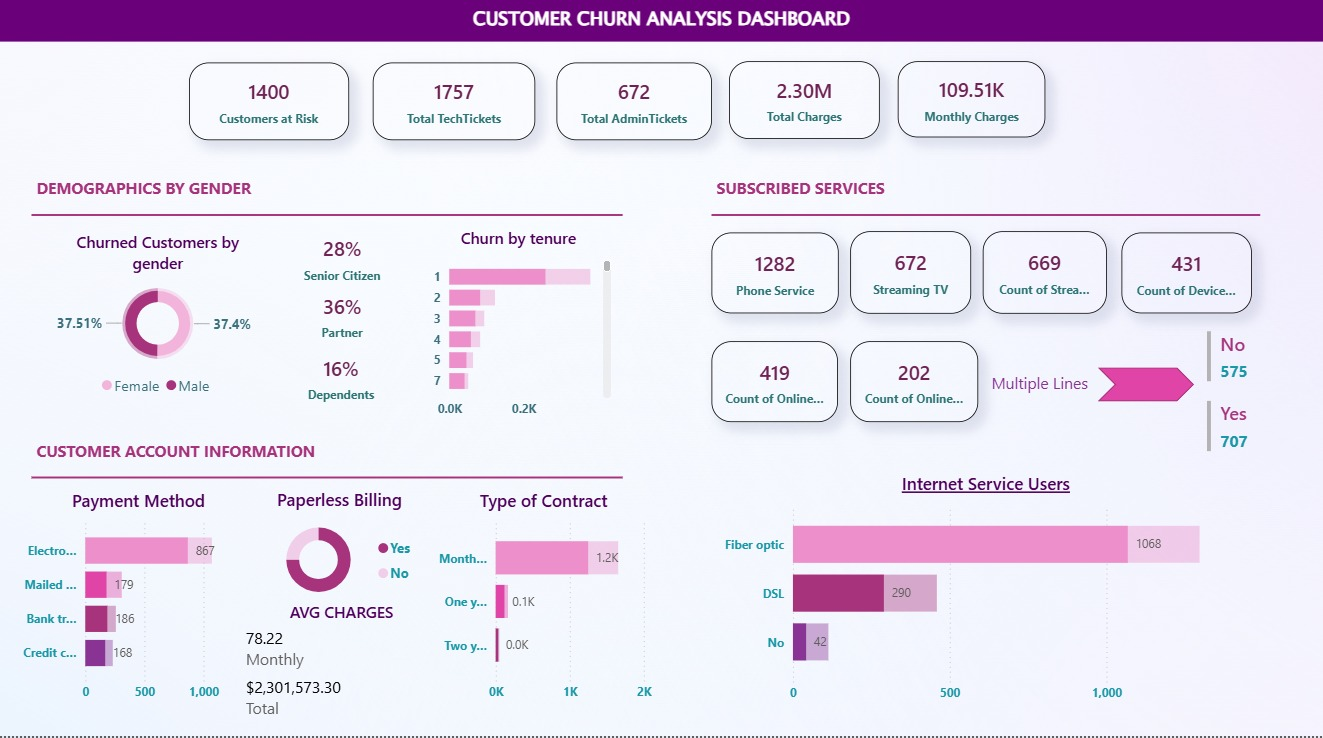

What the dashboard file says about the page in this screenshot:
{"tool":"powerbi","page":{"name":"Page 1","canvas":[1350,750],"ordinal":0},"visuals":[{"type":"card","fields":{"Values":["CountNonNull(01 Churn-Dataset.customerID)"]},"box":[193.3,63.9,162.8,79.1],"z":0},{"type":"textbox","box":[0,0,1350.2,42],"z":1000},{"type":"card","fields":{"Values":["Sum(01 Churn-Dataset.numTechTickets)"]},"box":[380.4,63.9,165.9,79.1],"z":2000},{"type":"card","fields":{"Values":["Sum(01 Churn-Dataset.numAdminTickets)"]},"box":[567.6,63.9,158.3,79.1],"z":3000},{"type":"card","fields":{"Values":["Sum(01 Churn-Dataset.TotalCharges)"]},"box":[744.1,62.4,153.7,79.1],"z":4000},{"type":"card","fields":{"Values":["Sum(01 Churn-Dataset.MonthlyCharges)"]},"box":[916,62.4,150.6,77.6],"z":5000},{"type":"donutChart","title":"Churned Customers by gender","fields":{"Category":["01 Churn-Dataset.gender"],"Y":["CountNonNull(01 Churn-Dataset.Churn)"]},"box":[48.4,222.9,226.7,196.2],"z":6000},{"type":"card","fields":{"Values":["Churn.Senior Citizen"]},"box":[275.1,219.1,149,87.9],"z":7000},{"type":"card","fields":{"Values":["Churn.% of dependents"]},"box":[273.9,340.1,149,89.2],"z":8000},{"type":"card","fields":{"Values":["Churn.% of partner"]},"box":[275.1,277.7,149,87.9],"z":9000},{"type":"textbox","box":[33.1,175.8,550.3,43.3],"z":10000},{"type":"clusteredBarChart","title":"Churn by tenure","fields":{"Category":["Churn.tenure"],"Y":["CountNonNull(Churn.Churn)"]},"box":[422.9,219.1,212.7,222.9],"z":11000},{"type":"shape","box":[33.1,184.7,602.5,68.8],"z":12000},{"type":"shape","box":[726.1,184.7,559.2,68.8],"z":13000},{"type":"card","fields":{"Values":["CountNonNull(Churn.PhoneService)"]},"box":[726.1,236.9,129.9,82.8],"z":14000},{"type":"card","fields":{"Values":["CountNonNull(Churn.StreamingTV)"]},"box":[867.4,235.7,123.6,84.1],"z":15000},{"type":"card","fields":{"Values":["CountNonNull(Churn.StreamingMovies)"]},"box":[1002.5,235.7,126.1,84.1],"z":16000},{"type":"card","fields":{"Values":["CountNonNull(Churn.DeviceProtection)"]},"box":[1143.9,236.9,132.5,82.8],"z":17000},{"type":"card","fields":{"Values":["CountNonNull(Churn.OnlineBackup)"]},"box":[726,348,129,82.5],"z":18000},{"type":"card","fields":{"Values":["CountNonNull(Churn.OnlineSecurity)"]},"box":[867,348,130.5,82.5],"z":19000},{"type":"multiRowCard","fields":{"Values":["Churn.MultipleLines","Churn.customerID"]},"box":[1224.1,331.2,126.1,155.4],"z":20000},{"type":"shape","box":[1119.7,374.5,98.1,34.4],"z":21000},{"type":"textbox","box":[1006.3,374.5,122.3,31.8],"z":22000},{"type":"clusteredBarChart","title":"Internet Service Users","fields":{"Category":["Churn.InternetService"],"Y":["CountNonNull(Churn.InternetService)"]},"box":[726.1,468.8,559.2,262.4],"z":23000},{"type":"textbox","box":[726.1,175.8,550.3,43.3],"z":24000},{"type":"textbox","box":[33.1,443.3,550.3,43.3],"z":25000},{"type":"shape","box":[33.1,452.2,602.5,68.8],"z":26000},{"type":"clusteredBarChart","title":"Payment Method","fields":{"Category":["Churn.PaymentMethod"],"Y":["CountNonNull(Churn.PaymentMethod)"]},"box":[0,486.9,284.6,243.5],"z":27000},{"type":"donutChart","title":"Paperless Billing","fields":{"Category":["Churn.PaperlessBilling"],"Y":["CountNonNull(Churn.PaperlessBilling)"]},"box":[254.1,485.4,187.2,143],"z":28000},{"type":"multiRowCard","title":"AVG CHARGES","fields":{"Values":["Avg(Churn.MonthlyCharges)","Sum(Churn.TotalCharges)"]},"box":[238.9,599.5,219.1,150.6],"z":29000},{"type":"clusteredBarChart","title":"Type of Contract ","fields":{"Category":["Churn.Contract"],"Y":["CountNonNull(Churn.Contract)"]},"box":[424.5,486.9,261.7,243.5],"z":30000}]}

Visuals, with their boxes in screenshot pixels (x1, y1, x2, y2), scaled from the page's 1350x750 canvas onto the 1323x738 screenshot:
card - CountNonNull(01 Churn-Dataset.customerID): box=[189, 63, 349, 141]
textbox: box=[0, 0, 1322, 41]
card - Sum(01 Churn-Dataset.numTechTickets): box=[373, 63, 535, 141]
card - Sum(01 Churn-Dataset.numAdminTickets): box=[556, 63, 711, 141]
card - Sum(01 Churn-Dataset.TotalCharges): box=[729, 61, 880, 139]
card - Sum(01 Churn-Dataset.MonthlyCharges): box=[898, 61, 1045, 138]
"Churned Customers by gender" donutChart: box=[47, 219, 270, 412]
card - Churn.Senior Citizen: box=[270, 216, 416, 302]
card - Churn.% of dependents: box=[268, 335, 414, 422]
card - Churn.% of partner: box=[270, 273, 416, 360]
textbox: box=[32, 173, 572, 216]
"Churn by tenure" clusteredBarChart: box=[414, 216, 623, 435]
shape: box=[32, 182, 623, 249]
shape: box=[712, 182, 1260, 249]
card - CountNonNull(Churn.PhoneService): box=[712, 233, 839, 315]
card - CountNonNull(Churn.StreamingTV): box=[850, 232, 971, 315]
card - CountNonNull(Churn.StreamingMovies): box=[982, 232, 1106, 315]
card - CountNonNull(Churn.DeviceProtection): box=[1121, 233, 1251, 315]
card - CountNonNull(Churn.OnlineBackup): box=[711, 342, 838, 424]
card - CountNonNull(Churn.OnlineSecurity): box=[850, 342, 978, 424]
multiRowCard - Churn.MultipleLines x Churn.customerID: box=[1200, 326, 1322, 479]
shape: box=[1097, 369, 1193, 402]
textbox: box=[986, 369, 1106, 400]
"Internet Service Users" clusteredBarChart: box=[712, 461, 1260, 720]
textbox: box=[712, 173, 1251, 216]
textbox: box=[32, 436, 572, 479]
shape: box=[32, 445, 623, 513]
"Payment Method" clusteredBarChart: box=[0, 479, 279, 719]
"Paperless Billing" donutChart: box=[249, 478, 432, 618]
"AVG CHARGES" multiRowCard: box=[234, 590, 449, 737]
"Type of Contract " clusteredBarChart: box=[416, 479, 672, 719]
